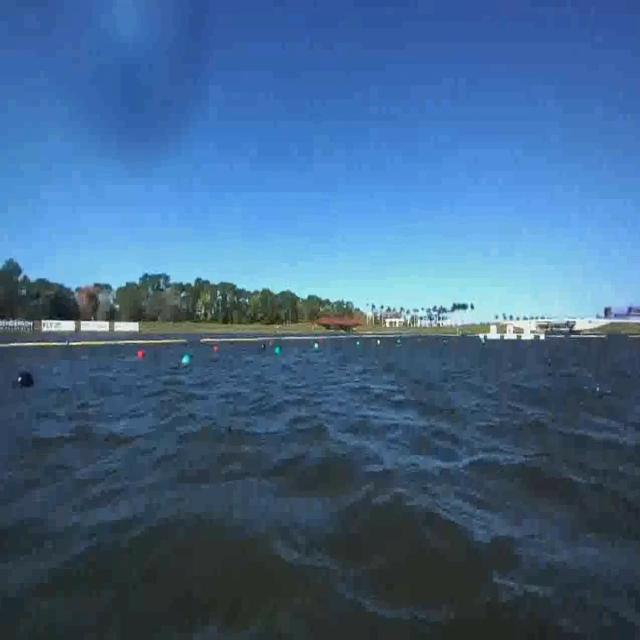black-buoy: (14, 373, 34, 389)
green-buoy: (180, 354, 197, 372)
red-buoy: (138, 350, 146, 359)
